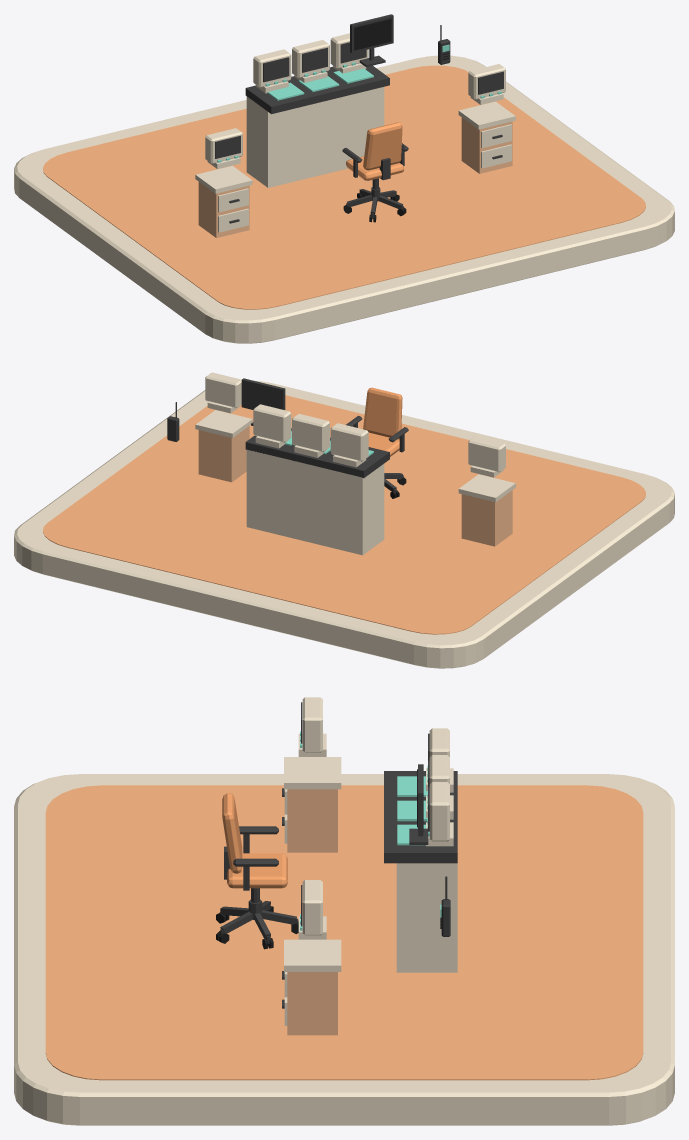
3 views of the same model, one above another, from view 1: azimuth 30°, elevation 25°; view 2: azimuth 150°, elevation 25°; view 3: azimuth 270°, elevation 25° (orthographic). The views are drawn at different scales.
Visible parts, largest first — view 1: COM-02 Floor Surface, COM-01 Rounded Base Direct, Console, COM-04_Chair_blender_direct, Panel, Frame, Body.001, Body, Top, Top.001, Housing, Housing.001 (+9 smaller); view 2: COM-02 Floor Surface, COM-01 Rounded Base Direct, Console, COM-04_Chair_blender_direct, Body, Body.001, Panel, Housing, Housing.002, Housing.001, Frame, Housing.003 (+3 smaller); view 3: COM-02 Floor Surface, COM-01 Rounded Base Direct, Console, COM-04_Chair_blender_direct, Body, Body.001, Panel, Top, Top.001, Housing.002, Housing.003, Housing.004 (+1 smaller).
Boxes of the visible parts, bbox=[...] form: COM-02 Floor Surface: bbox=[43, 65, 645, 309]; COM-01 Rounded Base Direct: bbox=[14, 55, 674, 343]; Console: bbox=[246, 87, 384, 187]; COM-04_Chair_blender_direct: bbox=[342, 122, 408, 222]; Panel: bbox=[245, 65, 389, 114]; Frame: bbox=[350, 14, 393, 67]; Body.001: bbox=[461, 117, 512, 173]; Body: bbox=[198, 182, 249, 237]; Top: bbox=[195, 165, 252, 193]; Top.001: bbox=[458, 101, 515, 129]; Housing: bbox=[253, 49, 291, 87]; Housing.001: bbox=[292, 40, 329, 78]; COM-02 Floor Surface: bbox=[43, 395, 645, 634]; COM-01 Rounded Base Direct: bbox=[14, 380, 674, 668]; Console: bbox=[246, 449, 384, 555]; COM-04_Chair_blender_direct: bbox=[346, 387, 408, 498]; Body: bbox=[461, 490, 512, 546]; Body.001: bbox=[198, 426, 249, 482]; Panel: bbox=[245, 428, 389, 478]; Housing: bbox=[330, 423, 368, 461]; Housing.002: bbox=[253, 404, 291, 442]; Housing.001: bbox=[292, 413, 329, 452]; Frame: bbox=[241, 378, 285, 425]; Housing.003: bbox=[468, 436, 505, 472]; COM-02 Floor Surface: bbox=[45, 785, 643, 1080]; COM-01 Rounded Base Direct: bbox=[14, 774, 674, 1125]; Console: bbox=[396, 863, 457, 972]; COM-04_Chair_blender_direct: bbox=[216, 793, 298, 949]; Body: bbox=[287, 789, 337, 852]; Body.001: bbox=[287, 972, 337, 1035]; Panel: bbox=[384, 771, 457, 863]; Top: bbox=[284, 757, 341, 789]; Top.001: bbox=[284, 939, 341, 971]; Housing.002: bbox=[429, 782, 449, 841]; Housing.003: bbox=[302, 697, 322, 752]; Housing.004: bbox=[302, 880, 322, 935].
Bounding box in the file's own units: 6 × 1.96 × 5.2.
1 material, 1 textured.
